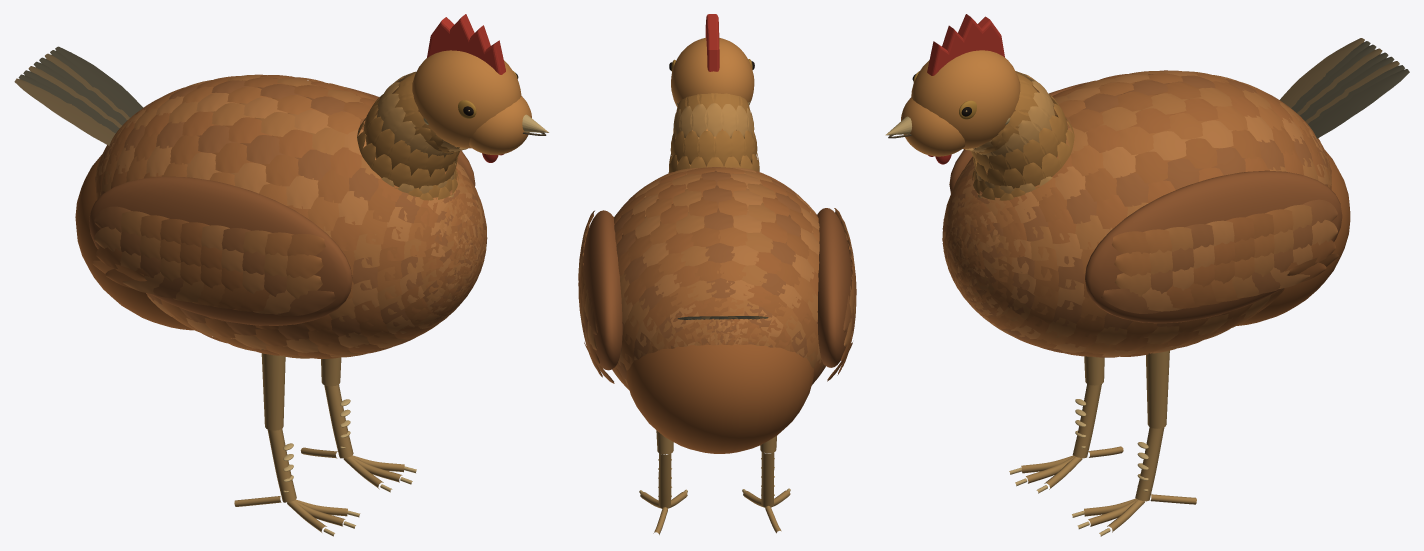
3 views of the same model, side by side, from view 1: azimuth 30°, elevation 25°; view 2: azimuth 150°, elevation 25°; view 3: azimuth 270°, elevation 25° (orthographic). The views are drawn at different scales.
Parts seen in each view (by area): view 1: 背胸腹 · 顺体表覆羽, actor_hen, 折叠翼 · 短覆羽与飞羽, 头部 · 刚性关节, 颈披羽 · 沿弯曲颈部排列, 母鸡短尾 · 圆端扇羽; view 2: 背胸腹 · 顺体表覆羽, actor_hen, 颈披羽 · 沿弯曲颈部排列, 头部 · 刚性关节, 折叠翼 · 短覆羽与飞羽 (×2); view 3: 背胸腹 · 顺体表覆羽, actor_hen, 折叠翼 · 短覆羽与飞羽, 头部 · 刚性关节, 颈披羽 · 沿弯曲颈部排列, 母鸡短尾 · 圆端扇羽.
Boxes of the visible parts, bbox=[...] form: 背胸腹 · 顺体表覆羽: bbox=[95, 74, 487, 358]; actor_hen: bbox=[75, 80, 475, 536]; 折叠翼 · 短覆羽与飞羽: bbox=[92, 206, 336, 316]; 头部 · 刚性关节: bbox=[412, 14, 548, 162]; 颈披羽 · 沿弯曲颈部排列: bbox=[357, 71, 467, 200]; 母鸡短尾 · 圆端扇羽: bbox=[14, 46, 143, 145]; 背胸腹 · 顺体表覆羽: bbox=[612, 165, 825, 390]; actor_hen: bbox=[582, 128, 852, 534]; 颈披羽 · 沿弯曲颈部排列: bbox=[668, 93, 759, 172]; 头部 · 刚性关节: bbox=[669, 14, 754, 106]; 折叠翼 · 短覆羽与飞羽 (×2): bbox=[578, 208, 856, 383]; 背胸腹 · 顺体表覆羽: bbox=[942, 70, 1331, 357]; actor_hen: bbox=[949, 81, 1350, 536]; 折叠翼 · 短覆羽与飞羽: bbox=[1101, 199, 1338, 313]; 头部 · 刚性关节: bbox=[885, 14, 1020, 164]; 颈披羽 · 沿弯曲颈部排列: bbox=[965, 71, 1074, 200]; 母鸡短尾 · 圆端扇羽: bbox=[1280, 38, 1409, 138].
Bounding box in the file's own units: 0.6326 × 0.9171 × 0.8507.
